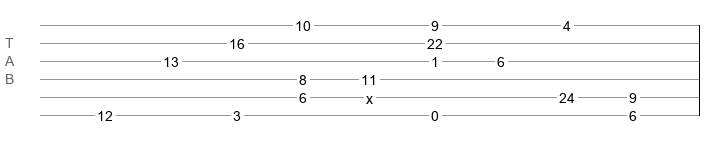0: (431, 108, 439, 118)
1: (431, 54, 439, 64)
10: (295, 18, 311, 28)
11: (361, 72, 377, 82)
12: (97, 108, 113, 118)
13: (163, 54, 179, 64)
16: (229, 36, 245, 46)
22: (427, 36, 443, 46)
24: (559, 90, 575, 100)
3: (233, 108, 241, 118)
4: (563, 18, 571, 28)
6: (299, 90, 307, 100), (497, 54, 505, 64), (629, 108, 637, 118)
8: (299, 72, 307, 82)
9: (431, 18, 439, 28), (629, 90, 637, 100)
x: (366, 91, 373, 99)
